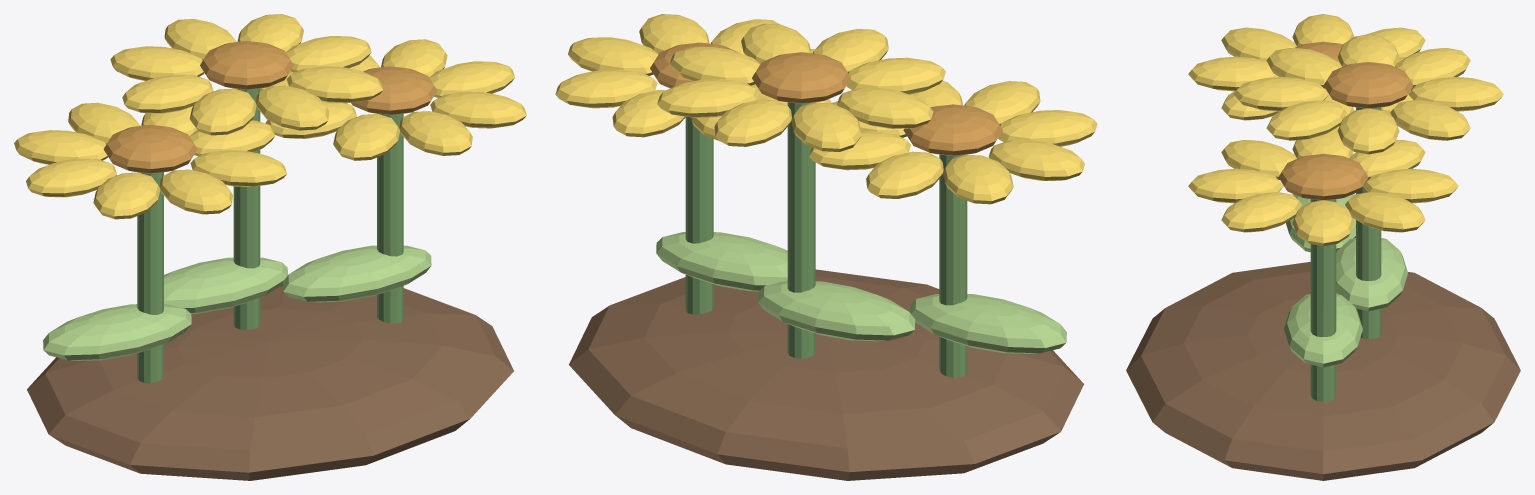
Rendered from Sunflower2.fbx.
3 views of the same model, side by side, from view 1: azimuth 30°, elevation 25°; view 2: azimuth 150°, elevation 25°; view 3: azimuth 270°, elevation 25° (orthographic). The views are drawn at different scales.
Parts seen in each view (by area): view 1: Worksite soil bed.014, Wide leaf.018, Wide leaf.020, Wide leaf.019, Flower stalk.018, Flower stalk.020, Pollen disk.019, Pollen disk.018, Flower stalk.019, Pollen disk.020, Colored petal.148, Colored petal.156 (+20 smaller); view 2: Worksite soil bed.014, Wide leaf.019, Wide leaf.018, Wide leaf.020, Flower stalk.019, Flower stalk.018, Flower stalk.020, Pollen disk.019, Pollen disk.018, Colored petal.161, Colored petal.156, Colored petal.148 (+18 smaller); view 3: Worksite soil bed.014, Wide leaf.020, Flower stalk.020, Wide leaf.019, Pollen disk.020, Pollen disk.019, Colored petal.153, Colored petal.159, Colored petal.161, Colored petal.167, Colored petal.158, Colored petal.154 (+18 smaller).
Boxes of the visible parts, left/top/right/bottom form: Worksite soil bed.014: left=27, top=284, right=513, bottom=480; Wide leaf.018: left=43, top=304, right=191, bottom=360; Wide leaf.020: left=283, top=245, right=431, bottom=302; Wide leaf.019: left=164, top=257, right=287, bottom=313; Flower stalk.018: left=137, top=172, right=163, bottom=383; Flower stalk.020: left=377, top=113, right=403, bottom=323; Pollen disk.019: left=200, top=41, right=293, bottom=89; Pollen disk.018: left=103, top=125, right=197, bottom=173; Flower stalk.019: left=233, top=88, right=260, bottom=329; Pollen disk.020: left=351, top=66, right=437, bottom=115; Colored petal.148: left=26, top=158, right=116, bottom=197; Colored petal.156: left=122, top=74, right=213, bottom=113; Worksite soil bed.014: left=569, top=269, right=1083, bottom=480; Wide leaf.019: left=758, top=281, right=915, bottom=341; Wide leaf.018: left=909, top=294, right=1066, bottom=353; Wide leaf.020: left=656, top=232, right=787, bottom=291; Flower stalk.019: left=787, top=102, right=815, bottom=358; Flower stalk.018: left=939, top=154, right=967, bottom=377; Flower stalk.020: left=685, top=116, right=713, bottom=314; Pollen disk.019: left=752, top=52, right=850, bottom=103; Pollen disk.018: left=903, top=104, right=1002, bottom=155; Colored petal.161: left=555, top=69, right=657, bottom=108; Colored petal.156: left=837, top=87, right=933, bottom=128; Colored petal.148: left=988, top=140, right=1084, bottom=180; Worksite soil bed.014: left=1126, top=262, right=1520, bottom=480; Wide leaf.020: left=1284, top=294, right=1362, bottom=367; Flower stalk.020: left=1310, top=199, right=1336, bottom=401; Wide leaf.019: left=1336, top=238, right=1407, bottom=311; Pollen disk.020: left=1278, top=153, right=1368, bottom=200; Pollen disk.019: left=1323, top=62, right=1413, bottom=108; Colored petal.153: left=1390, top=100, right=1470, bottom=140; Colored petal.159: left=1266, top=100, right=1346, bottom=140; Colored petal.161: left=1345, top=192, right=1425, bottom=232; Colored petal.167: left=1221, top=192, right=1301, bottom=232; Colored petal.158: left=1233, top=77, right=1328, bottom=111; Colored petal.154: left=1408, top=77, right=1503, bottom=111.
Bounding box in the file's own units: 190 × 132 × 140.
